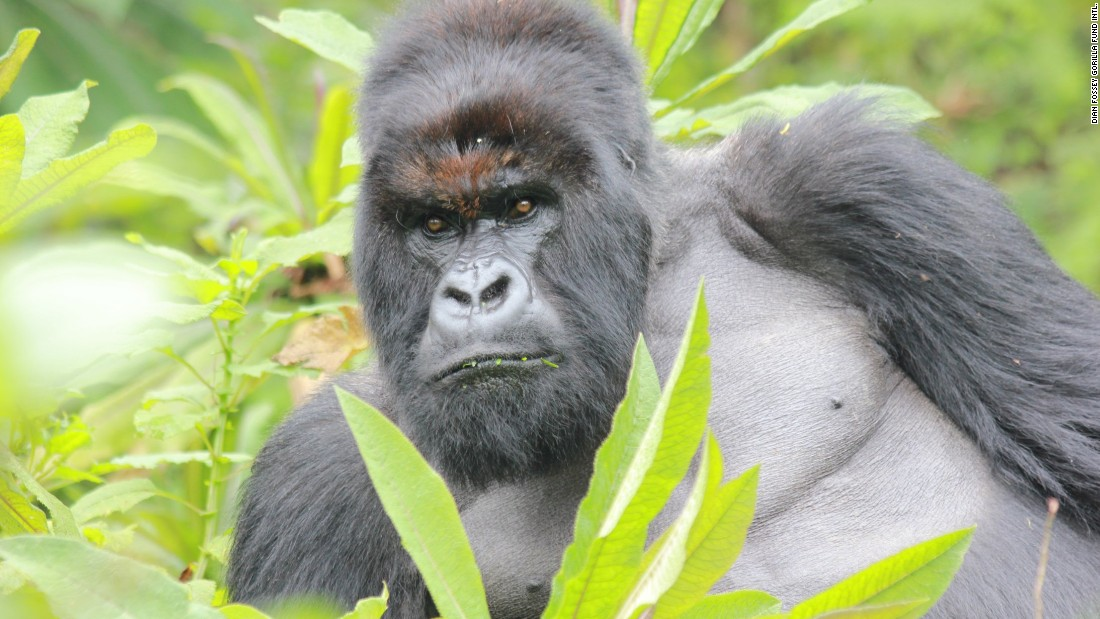Goriila: (237, 10, 1076, 619)
